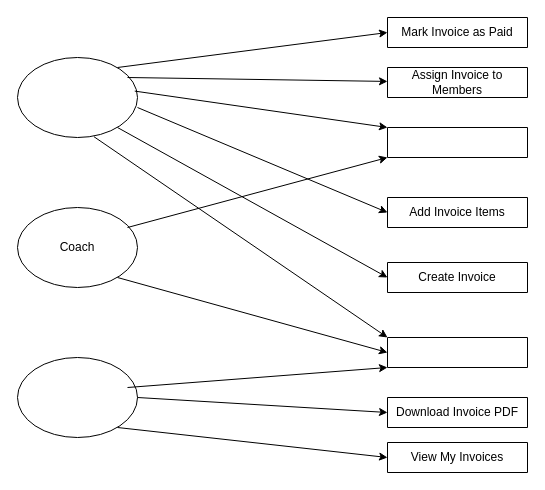
The diagram is 545 pixels wide and 490 high, and some of its shapes have lost their labels. Here are the shapes that lost their labels. From the top down, the centre of each, then its label:
[77,97]: Admin
[457,142]: View All Invoices
[457,352]: Login/ Logout
[77,397]: Member
